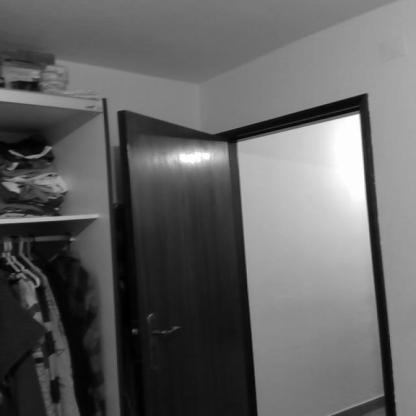door: (96, 88, 392, 416)
